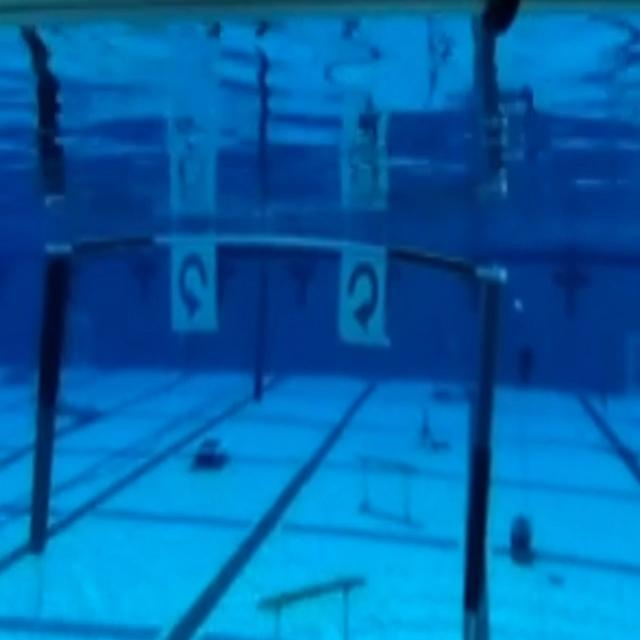Gate: (46, 230, 497, 614)
